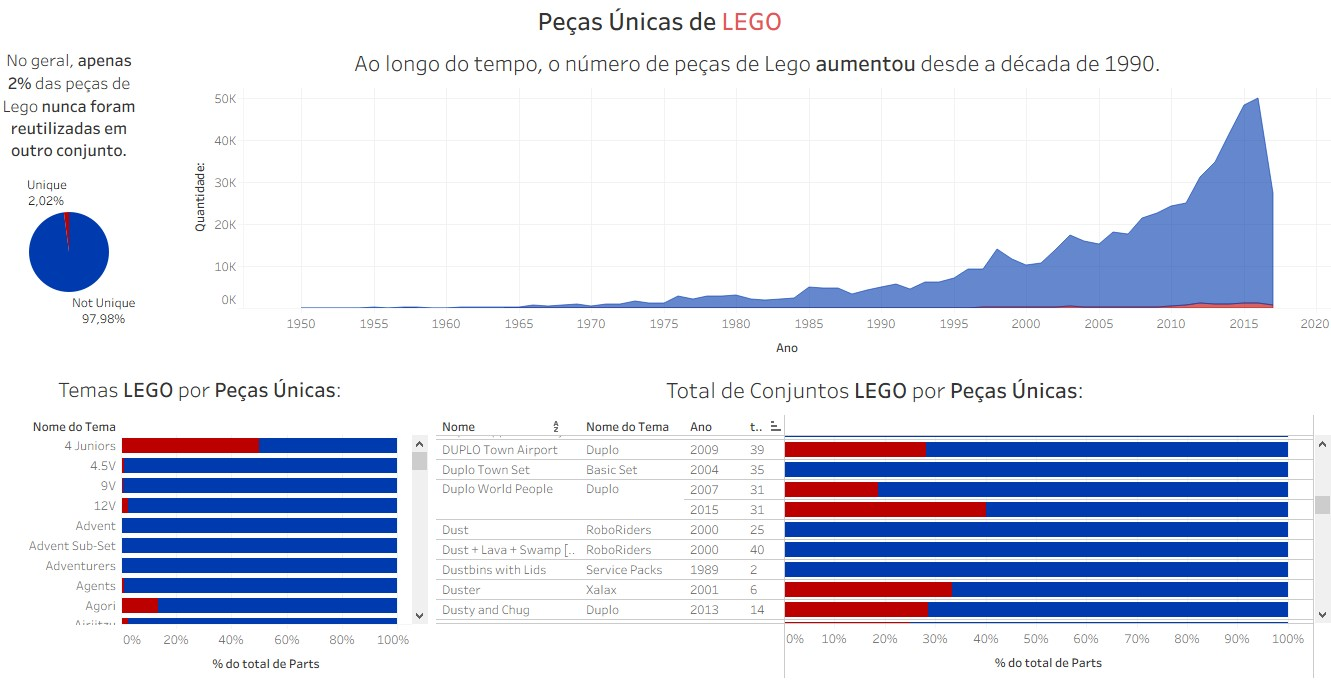

What the dashboard file says about the page in this screenshot:
{"tool":"tableau","page":{"name":"Dashboard 1","canvas":[1000,1000],"units":"permille","ordinal":0},"visuals":[{"type":"title","box":[6,13.5,988.1,65.9]},{"type":"worksheet","title":"Sheet 1","mark":"Pie","box":[6,79.4,142.5,461.1]},{"type":"worksheet","title":"Sheet 2","mark":"Area","rows":["parts"],"cols":["set_year"],"box":[148.5,79.4,845.5,461.1]},{"type":"worksheet","title":"Sheet 2 (3)","mark":"Bar","rows":["theme_name"],"box":[6,540.5,327,446]},{"type":"worksheet","title":"Sheet 2 (2)","mark":"Bar","rows":["set_name","theme_name","set_year","Calculation_0456322809380868"],"box":[332.9,540.5,661.1,446]}]}

Visuals, with their boxes on the dashboard's canvas, which has no fixed pixel size, in thousandths of its width and height (x1, y1, x2, y2). These are canvas units, not pixel positions in the 1331x681 screenshot, which may show the page scaled, cropped or inside an application window:
title: locate(6, 14, 994, 79)
"Sheet 1" worksheet (Pie marks): locate(6, 79, 148, 540)
"Sheet 2" worksheet (Area marks): locate(148, 79, 994, 540)
"Sheet 2 (3)" worksheet (Bar marks): locate(6, 540, 333, 986)
"Sheet 2 (2)" worksheet (Bar marks): locate(333, 540, 994, 986)
